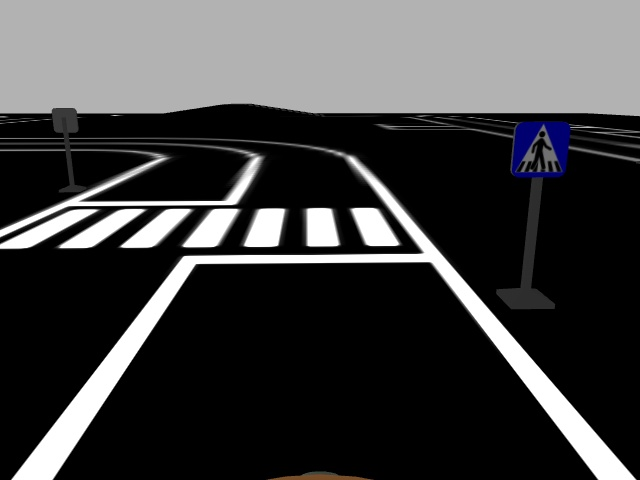crosswalk: (506, 117, 574, 183)
